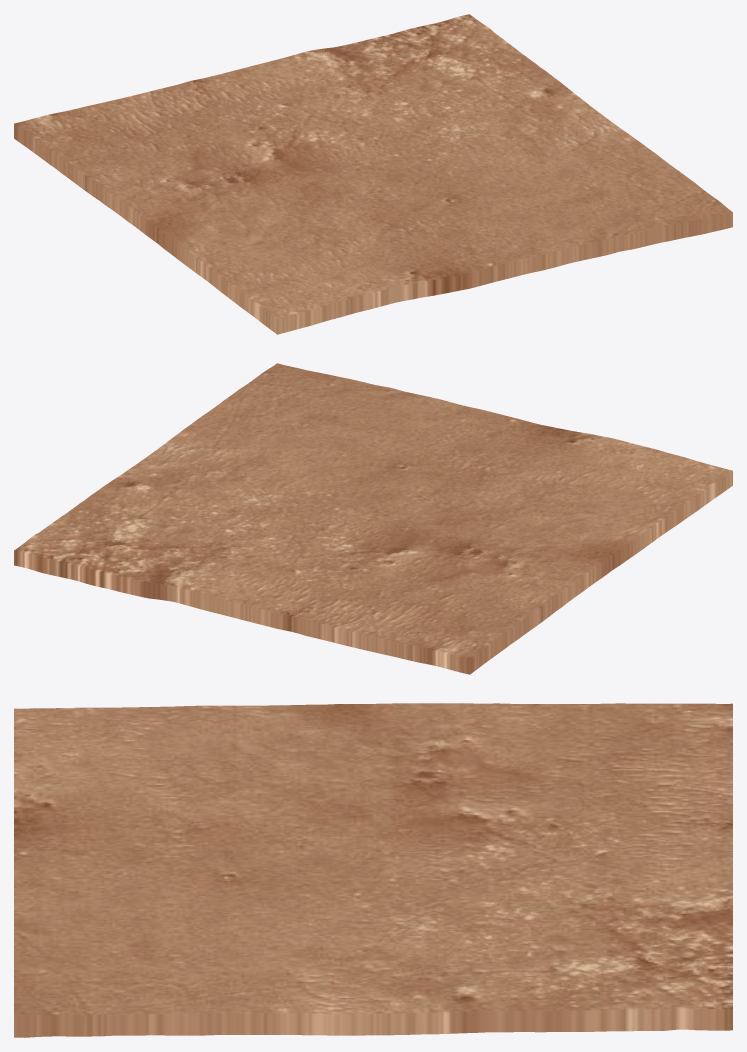
3 views of the same model, one above another, from view 1: azimuth 30°, elevation 25°; view 2: azimuth 150°, elevation 25°; view 3: azimuth 270°, elevation 25° (orthographic). The views are drawn at different scales.
Parts seen in each view (by area): view 1: L6_38_14; view 2: L6_38_14; view 3: L6_38_14.
Part boxes in pixels (x1,y1,x2,y2): L6_38_14: (14, 14, 732, 334); L6_38_14: (14, 363, 732, 674); L6_38_14: (14, 703, 732, 1037).
Bounding box in the file's own units: 225 × 10.88 × 225.
1 material, 1 textured.
